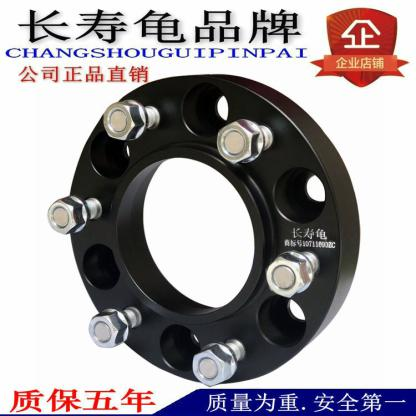FOD: (58, 69, 364, 390)
